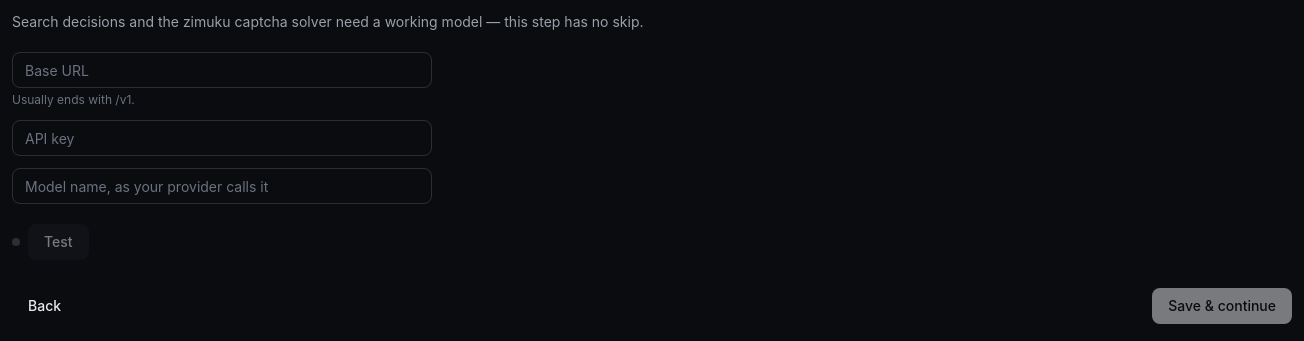
Test case: StepLlm › 齐填 → Test 打三件套凭据；绿了解锁 Save
Type "https://api.example.com/v1" into the field labelled "Base URL" at (222, 70), box [12,52,432,88]
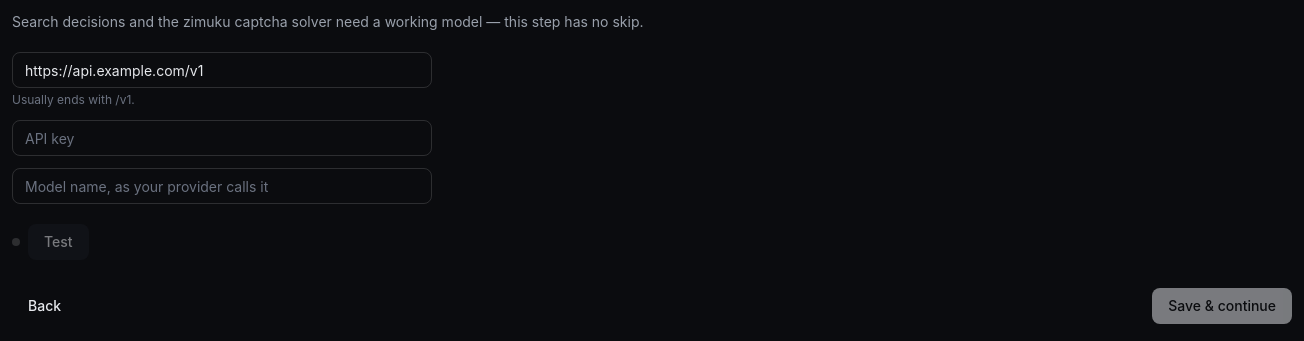
Type "sk-1" into the password field labelled "API key" at (222, 138), box [12,120,432,156]
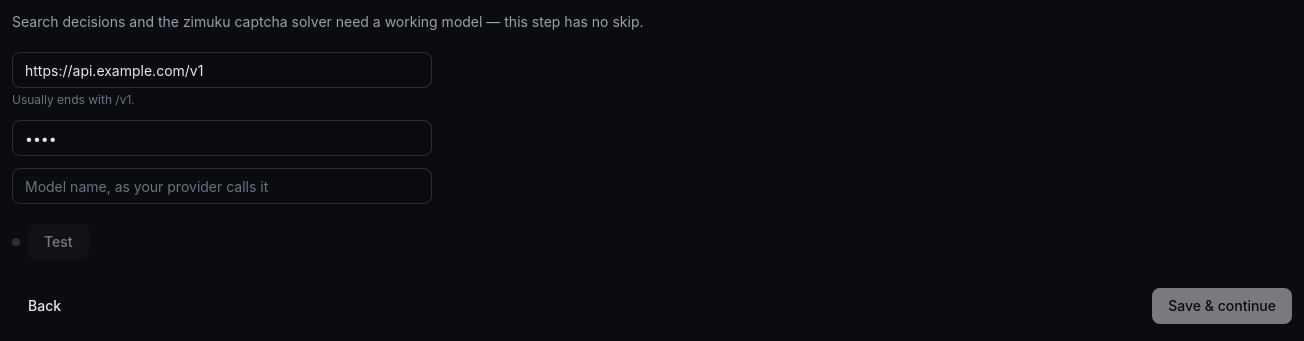
Type "m-1" into the field labelled "Model" at (222, 186), box [12,168,432,204]
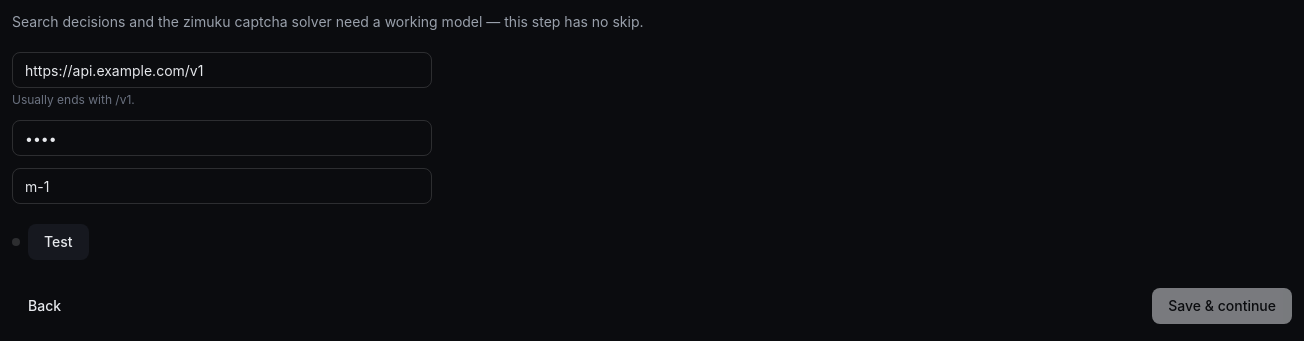
Click the button "Test" at (58, 242), box [28,224,89,260]
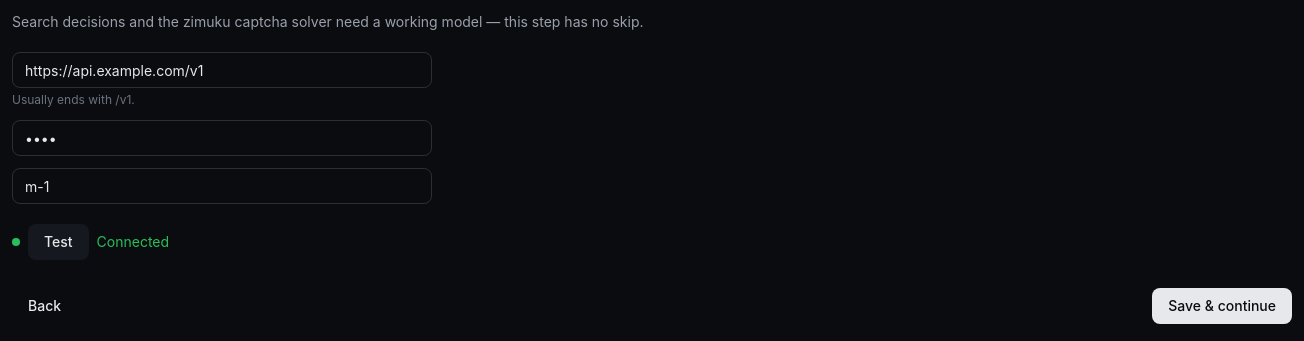
Expected: the button "Save & continue" is enabled, [1152,288,1292,324]
